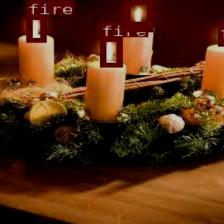fire: (123, 0, 152, 31), (99, 37, 121, 66), (26, 14, 44, 42), (217, 23, 224, 45)
